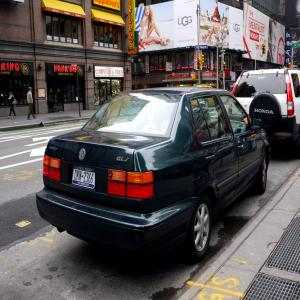Vehicle-registration-plate: (73, 167, 97, 189)
